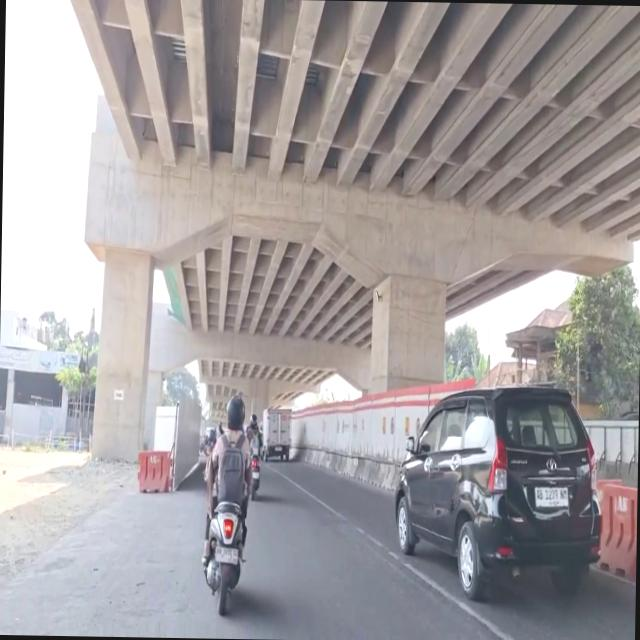WithHelmet: (200, 395, 254, 574), (245, 413, 263, 479)
